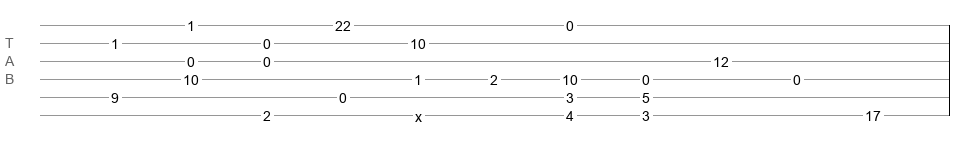0: (187, 54, 195, 64), (263, 54, 271, 64), (263, 36, 271, 46), (339, 90, 347, 100), (566, 18, 574, 28), (642, 72, 650, 82), (793, 72, 801, 82)
1: (111, 36, 119, 46), (187, 18, 195, 28), (414, 72, 422, 82)
10: (183, 72, 199, 82), (410, 36, 426, 46), (562, 72, 578, 82)
12: (713, 54, 729, 64)
17: (865, 108, 881, 118)
2: (263, 108, 271, 118), (490, 72, 498, 82)
22: (335, 18, 351, 28)
3: (566, 90, 574, 100), (642, 108, 650, 118)
4: (566, 108, 574, 118)
5: (642, 90, 650, 100)
9: (111, 90, 119, 100)
x: (415, 109, 422, 117)
